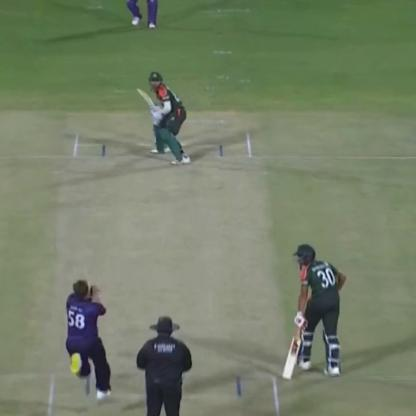bat: (284, 318, 304, 379), (132, 84, 164, 118)
pitch: (40, 125, 285, 416)
